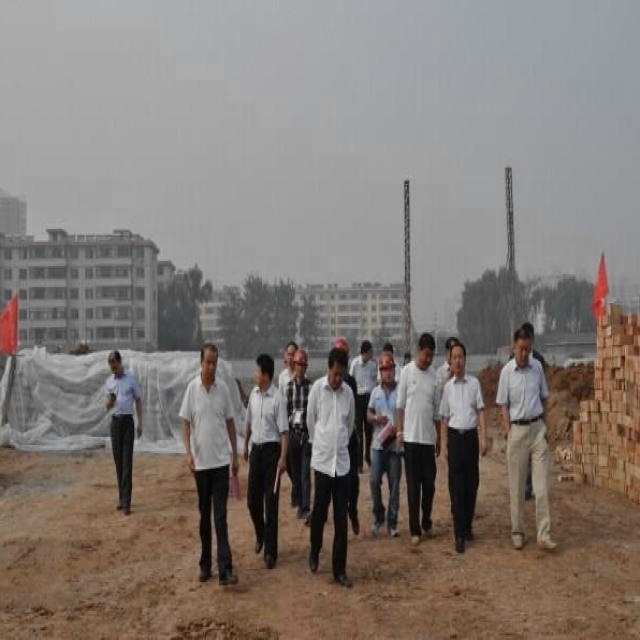Sin_Casco_Mascarrilla: (198, 341, 218, 381), (512, 328, 532, 368), (415, 332, 434, 372), (449, 343, 466, 379)
